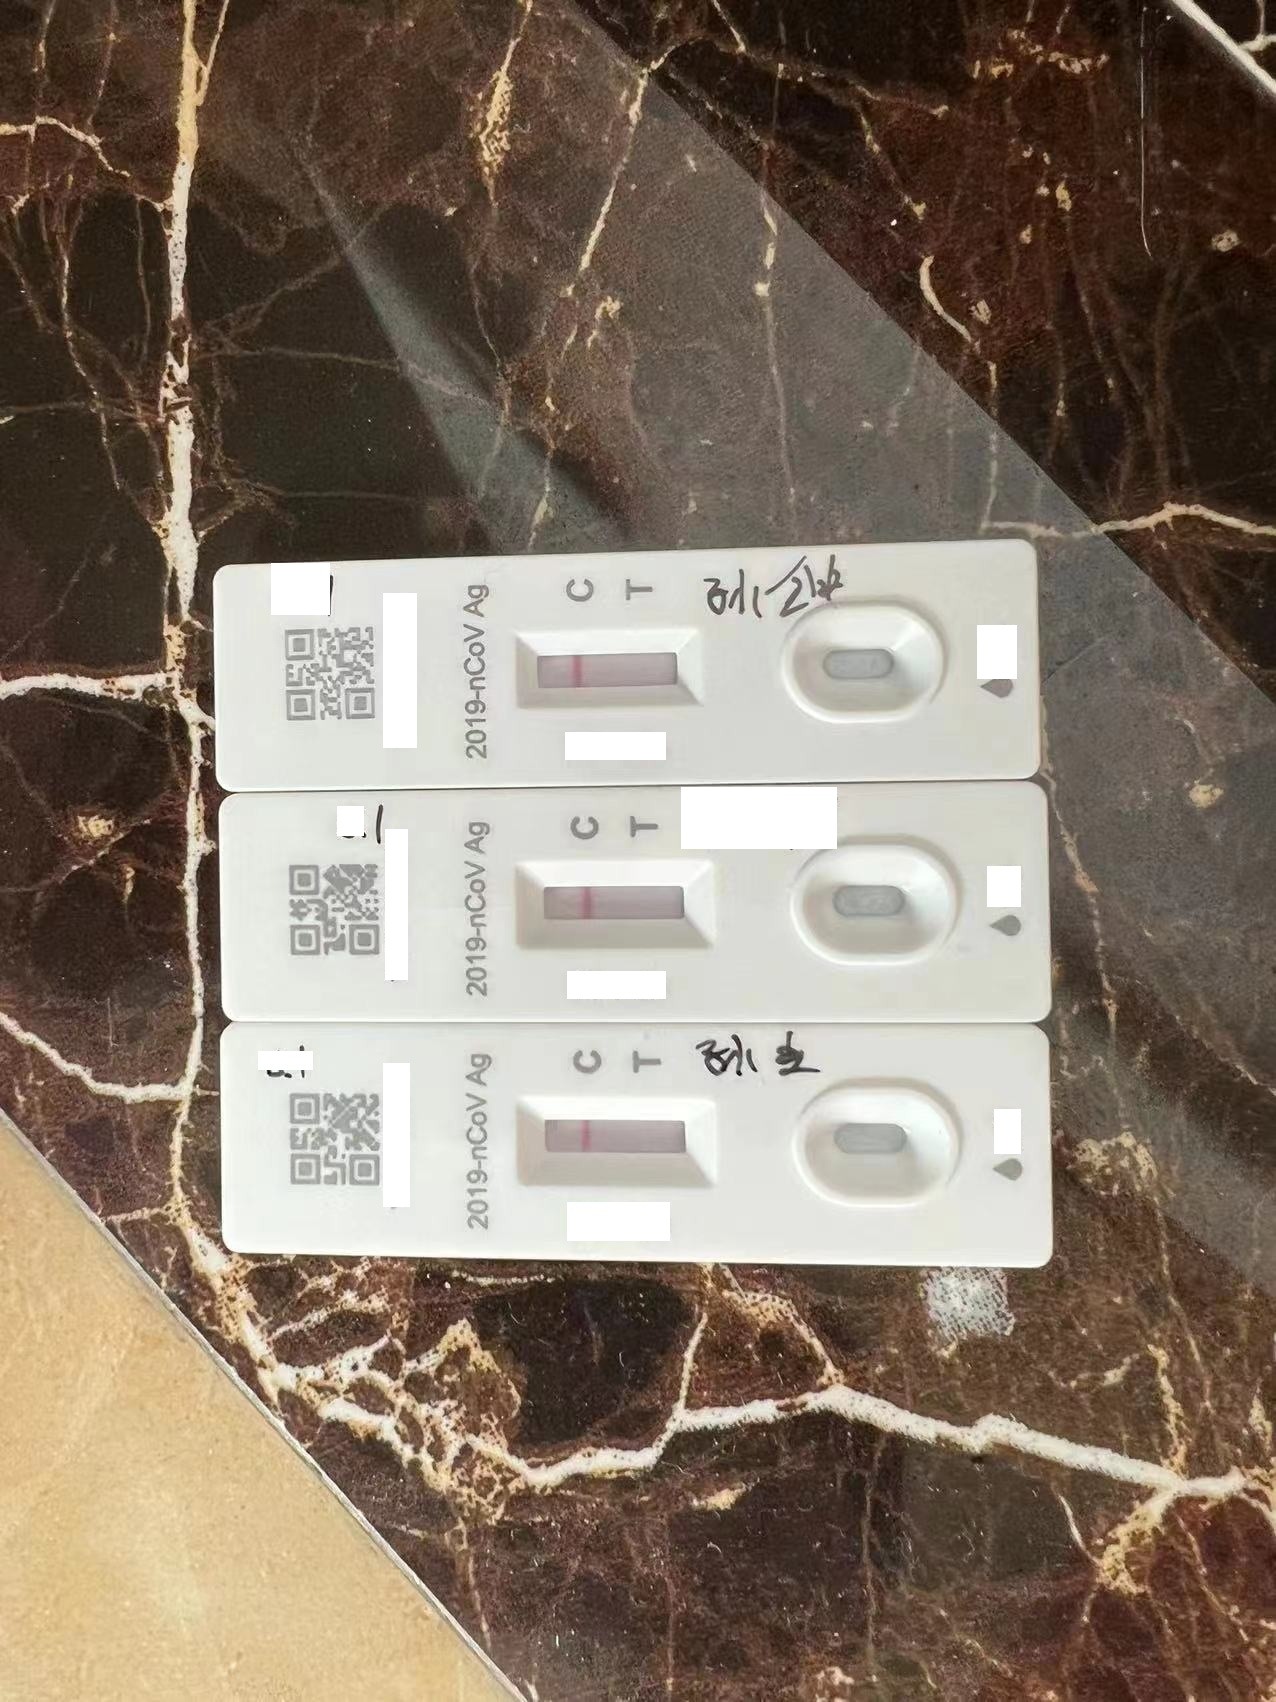negative: (511, 1096, 720, 1195), (511, 864, 716, 961), (504, 633, 710, 712)
